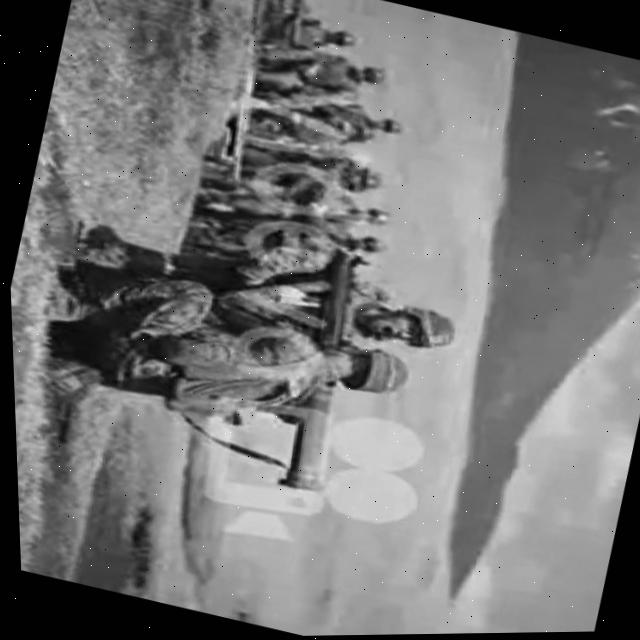rocket: (248, 242, 387, 499)
